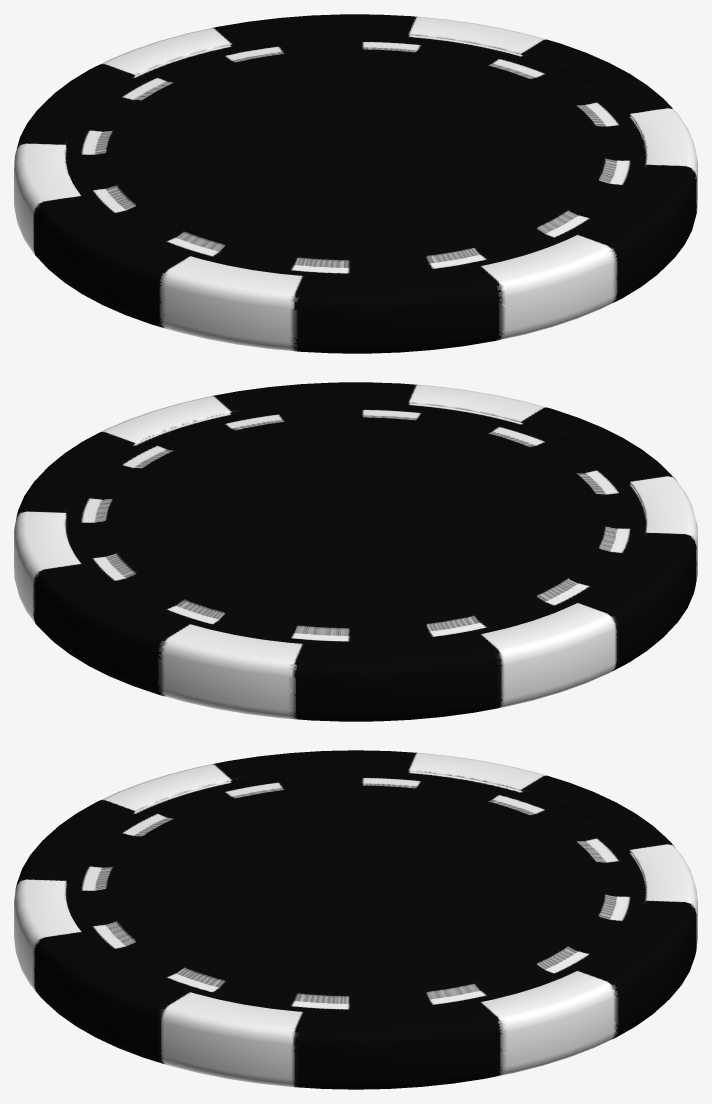
The model's file is black_white.glb.
3 renders of one model, top to bottom at view 1: azimuth 30°, elevation 25°; view 2: azimuth 150°, elevation 25°; view 3: azimuth 270°, elevation 25°, orthographic.
Parts seen in each view (by area): view 1: chips.171_chips_black_bake_0; view 2: chips.171_chips_black_bake_0; view 3: chips.171_chips_black_bake_0.
Boxes of the visible parts, bbox=[...] form: chips.171_chips_black_bake_0: bbox=[14, 14, 697, 353]; chips.171_chips_black_bake_0: bbox=[14, 382, 697, 721]; chips.171_chips_black_bake_0: bbox=[14, 750, 697, 1089].
Size of the model in its own units: 2 by 0.1882 by 2.
1 material, 1 textured.
